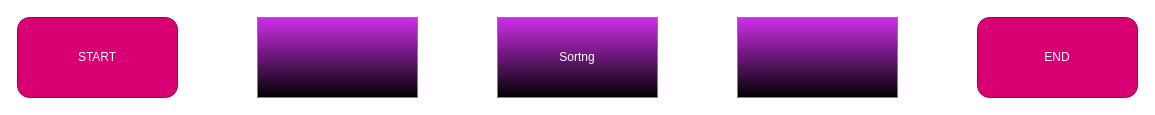
Some shapes in this 1155 by 115 pixel diagram are drawn without their labels. Here are the shapes that lost their labels. From the top down, the centre of each, then its label:
[337,57]: Loading
[817,57]: Storing
